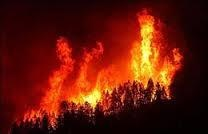fire: (126, 12, 182, 101)
